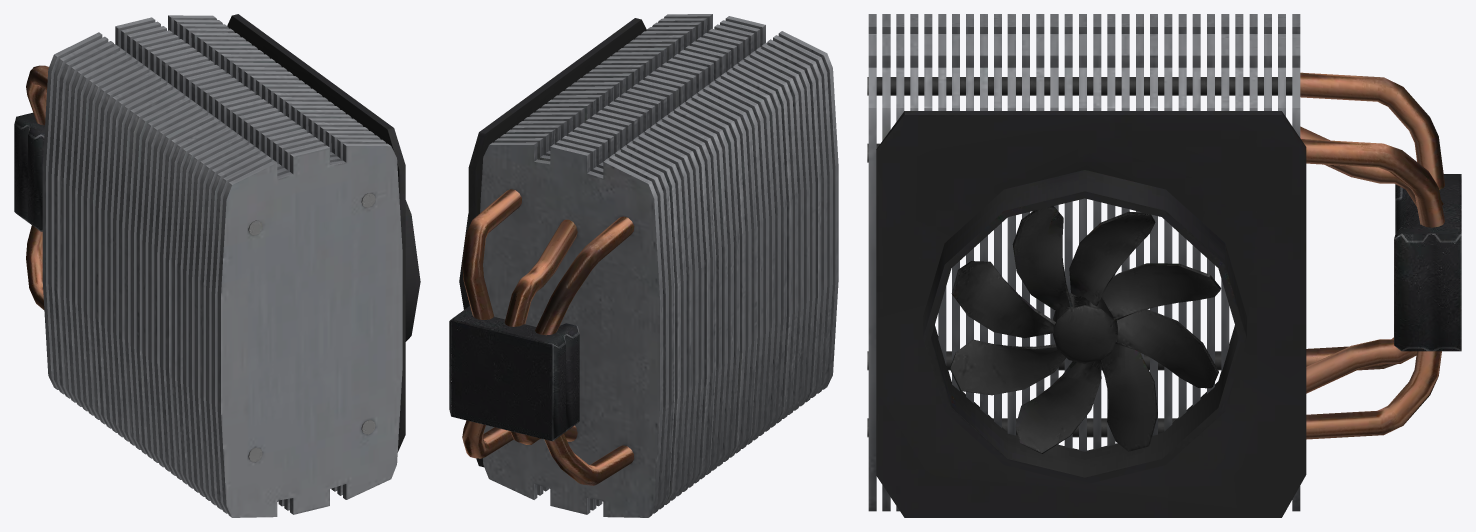
The model's file is cooler_tower.glb.
3 views of the same model, side by side, from view 1: azimuth 30°, elevation 25°; view 2: azimuth 150°, elevation 25°; view 3: azimuth 270°, elevation 25° (orthographic). The views are drawn at different scales.
Visible parts, largest first — view 1: part_cooler; view 2: part_cooler; view 3: part_cooler.
Boxes of the visible parts, x1,y1,x2,y2 form: part_cooler: (14, 14, 420, 517); part_cooler: (449, 14, 838, 517); part_cooler: (867, 14, 1461, 517).
Bounding box in the file's own units: 0.8103 × 1.25 × 1.55.
Materials: 2 (2 with a texture image).
